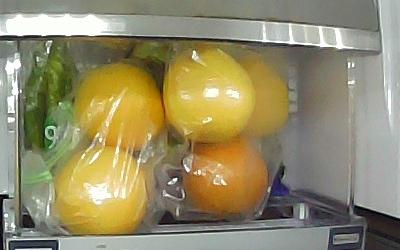grapefruit_vinyl: (161, 43, 256, 141), (49, 144, 149, 235), (73, 61, 165, 150), (181, 137, 268, 217), (235, 50, 287, 139)
